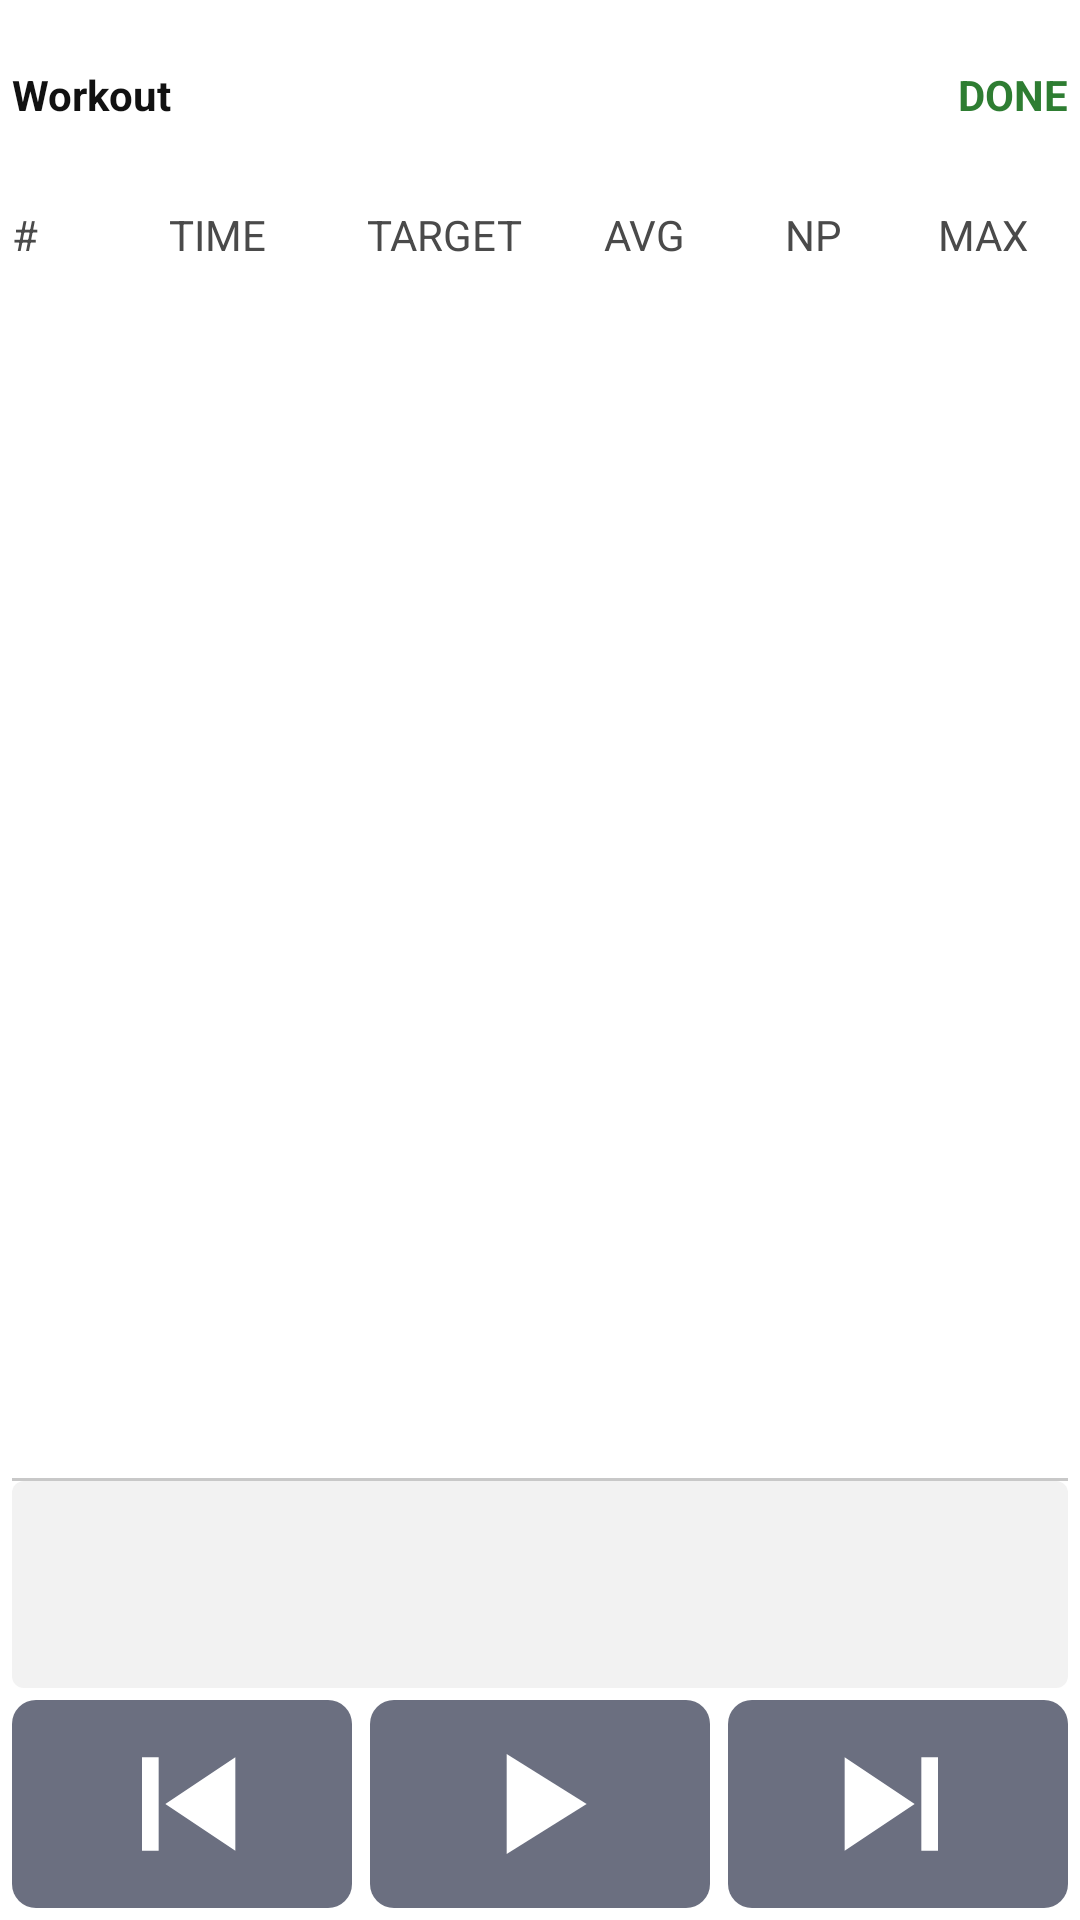

Screen size 1080 × 1920. Icon name, then its box in pixels as (x1, y1, x2, y2):
Next step: (728, 1700, 1068, 1908)
Previous step: (12, 1700, 352, 1908)
Start or pause: (370, 1700, 710, 1908)
